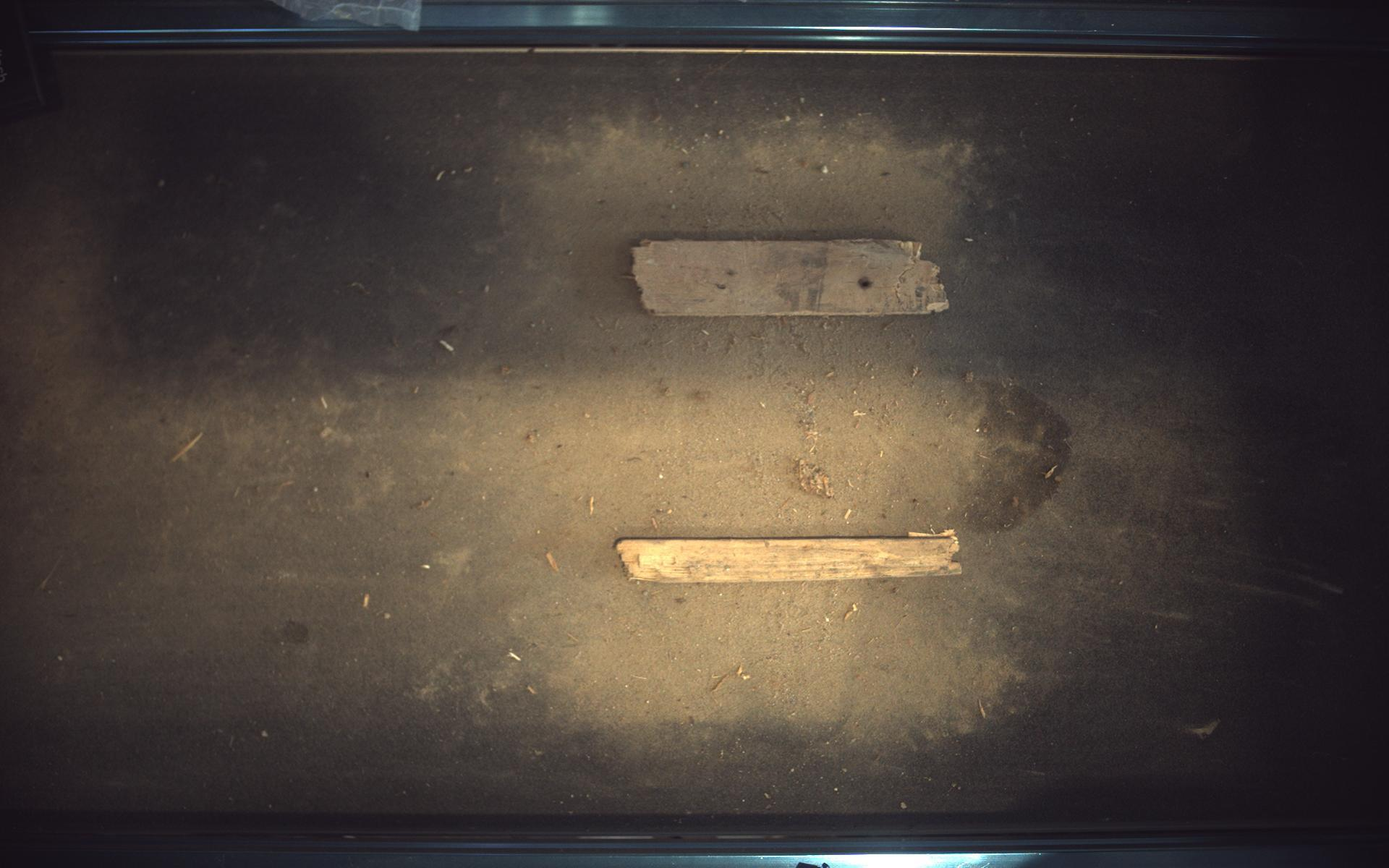wood: (634, 239, 951, 316), (616, 529, 964, 584)
